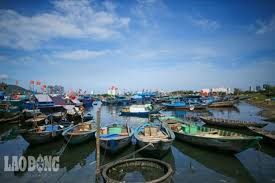tau_dansu: (163, 112, 265, 156), (136, 113, 175, 158), (21, 117, 65, 148), (95, 117, 135, 151), (64, 113, 99, 148), (157, 94, 215, 109)
